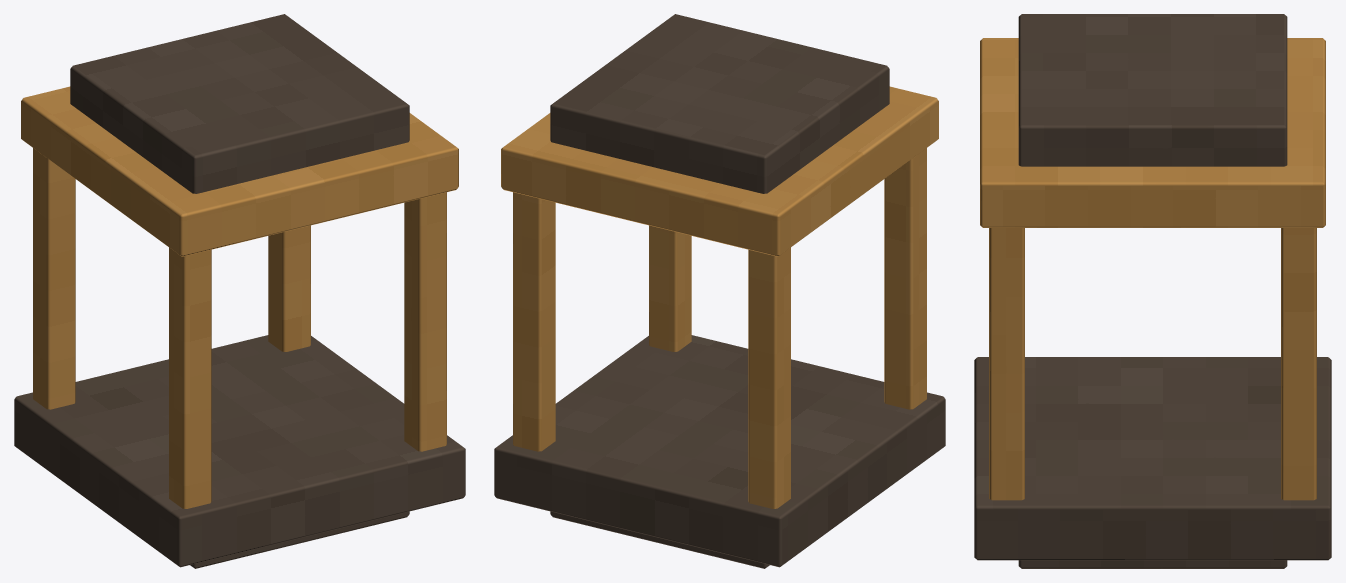
The model's file is Housing.glb.
3 renders of one model, left to right at view 1: azimuth 30°, elevation 25°; view 2: azimuth 150°, elevation 25°; view 3: azimuth 270°, elevation 25°, orthographic. The views are drawn at different scales.
Parts seen in each view (by area): view 1: Housing; view 2: Housing; view 3: Housing.
Boxes of the visible parts, box(x1,y1,x2,y2) form: Housing: box(14, 14, 465, 568); Housing: box(494, 14, 945, 568); Housing: box(974, 14, 1331, 568).
Bounding box in the file's own units: 0.328 × 0.45 × 0.328.
Materials: 2 (2 with a texture image).
